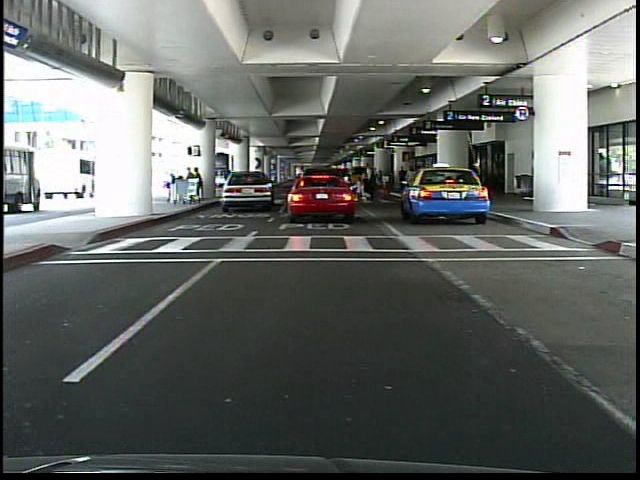person: (221, 164, 236, 207), (405, 166, 419, 200), (398, 163, 409, 199), (349, 170, 358, 201), (369, 162, 370, 201)
